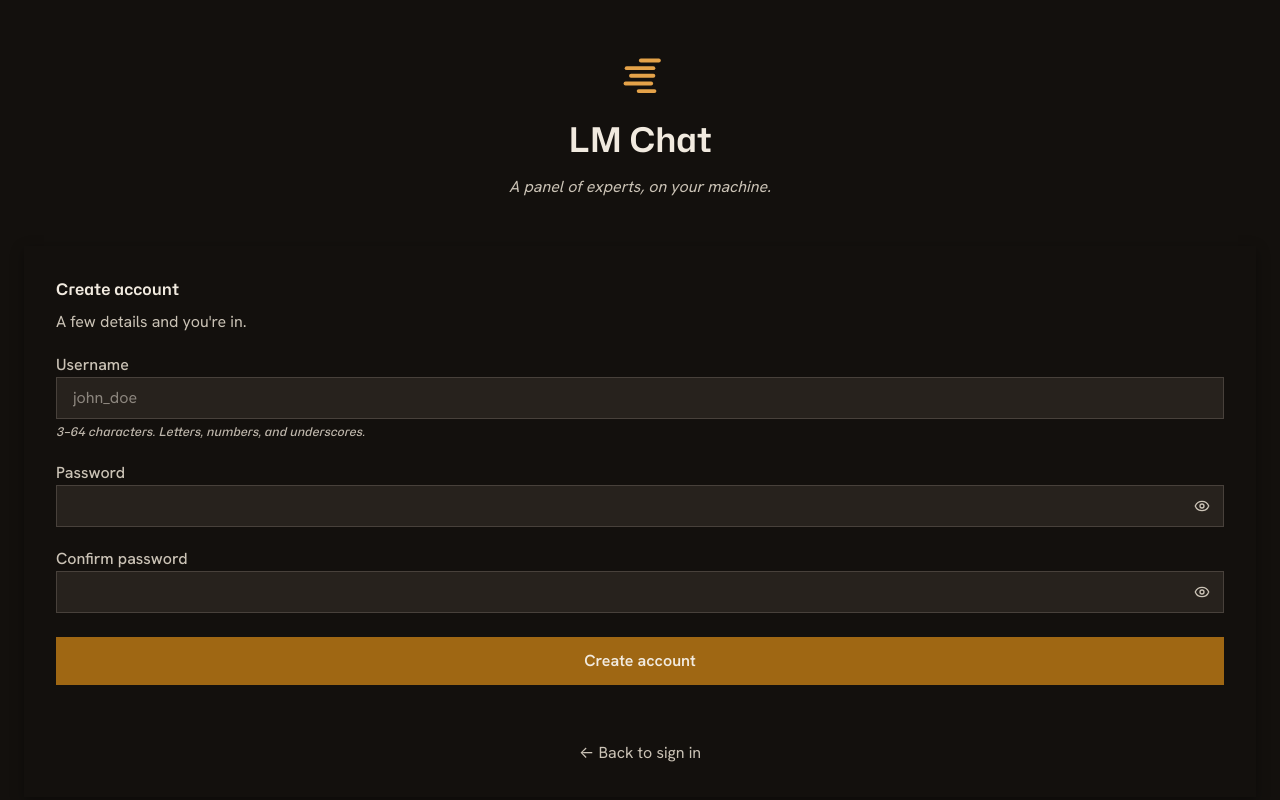
Register › rejects mismatched passwords without hitting the API
In the field labelled "Username": coordinates (640, 398) [56,378,1224,420], type "alice"
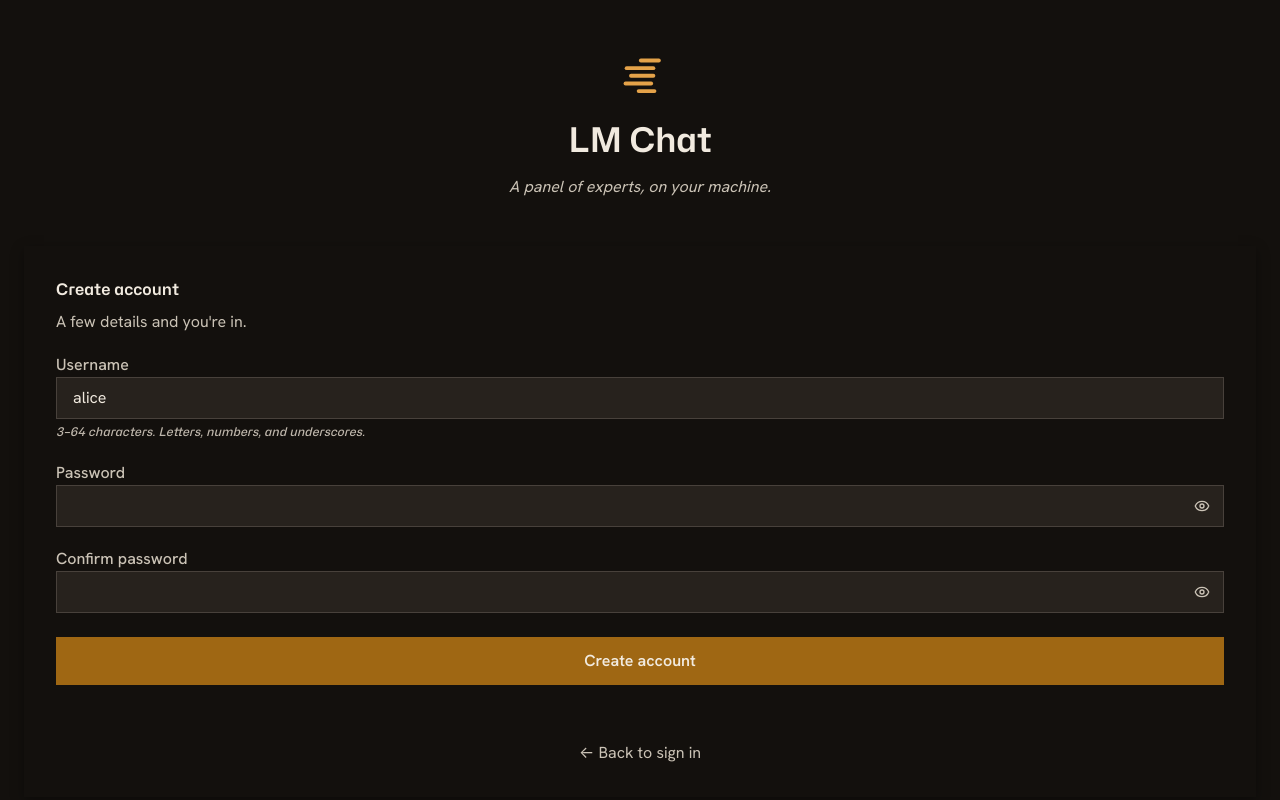
In the password field labelled "Password": coordinates (640, 506) [56,485,1224,527], type "first"
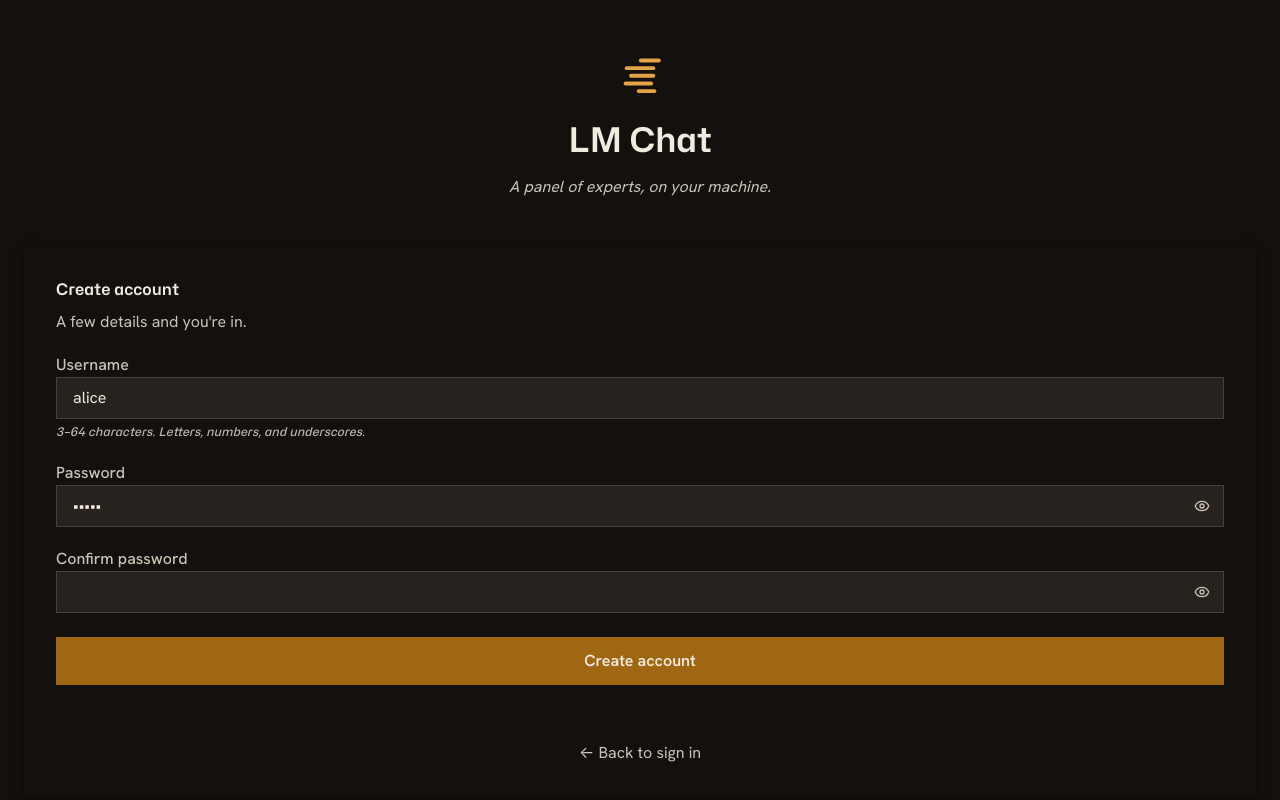
In the password field labelled "Confirm password": coordinates (640, 592) [56,571,1224,613], type "second"
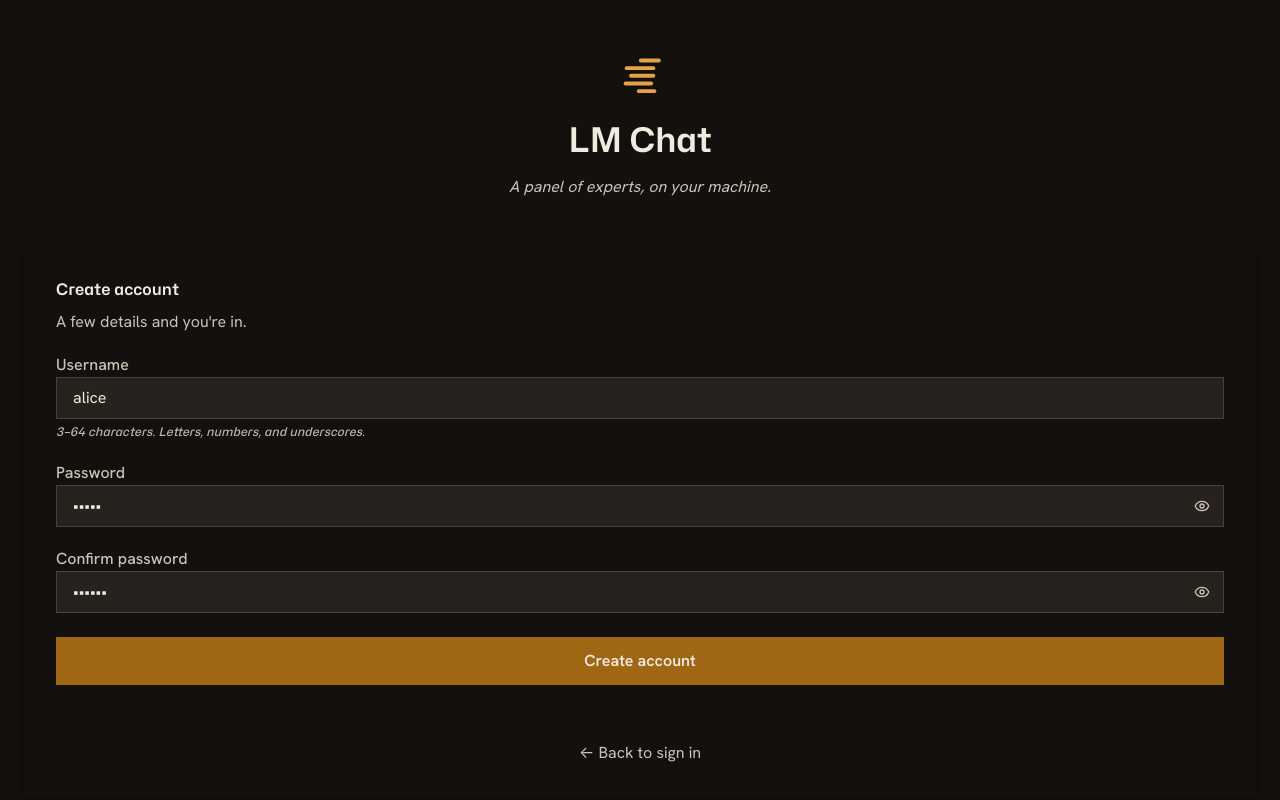
Click the button "Create account": coordinates (640, 661) [56,637,1224,685]
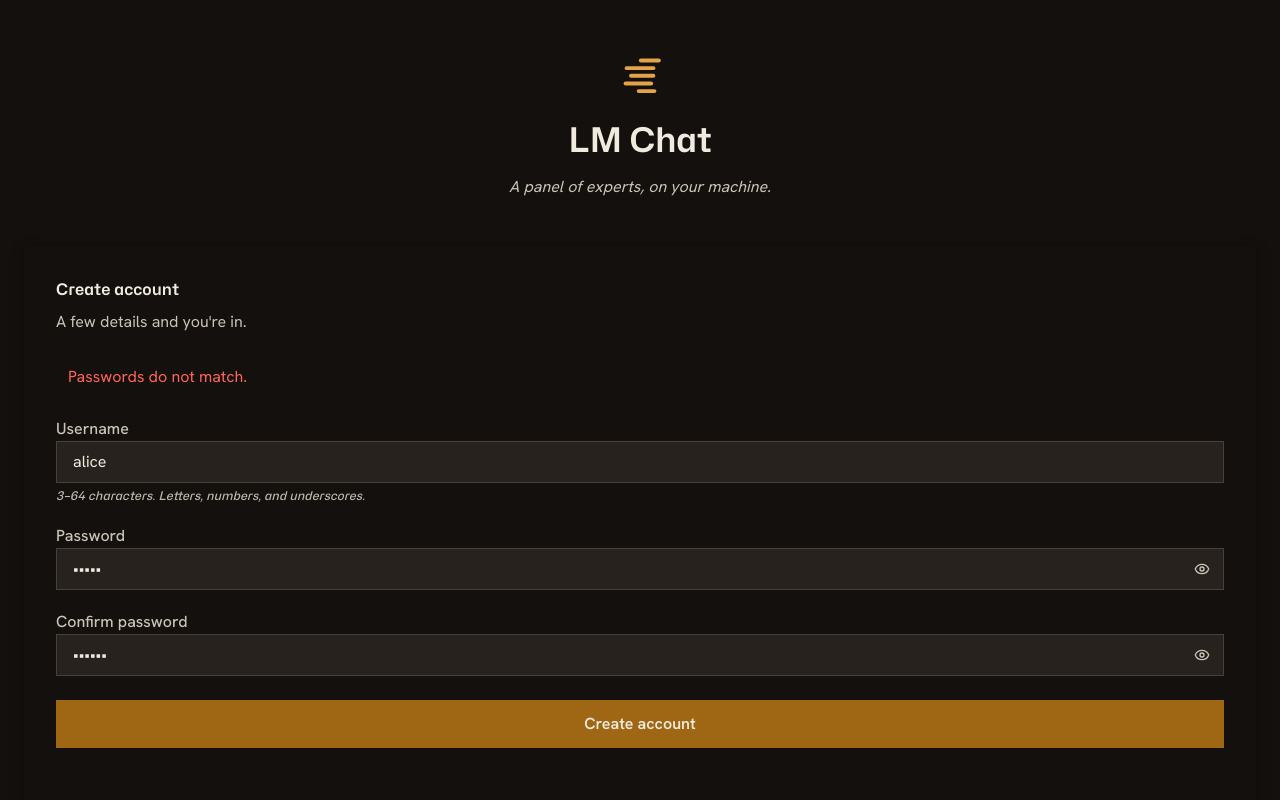
Now the message reads "Passwords do not match.", box [68,366,247,388]
